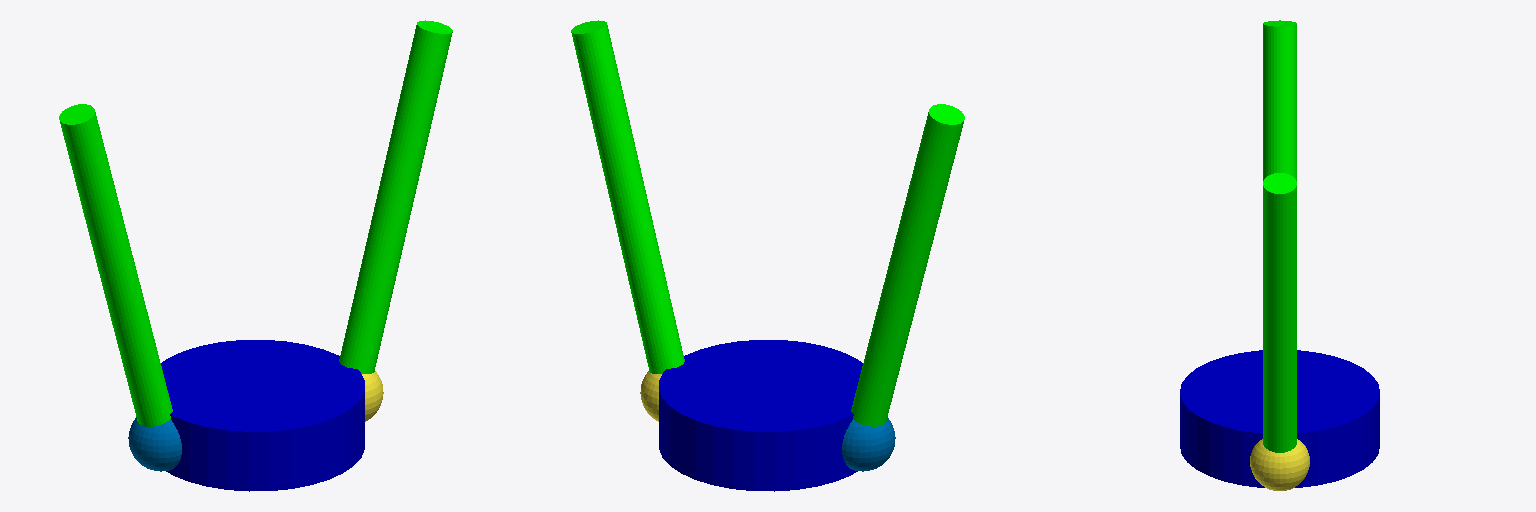
The robot description file, URDF, robot "gripper_2f_1j":
<?xml version='1.0' encoding='UTF-8'?>
<robot name="gripper_2f_1j">
  <link name="palm">
    <inertial>
      <origin xyz="0.0 0.0 0.0" rpy="0.0 -0.0 0.0"/>
      <mass value="1.0"/>
      <inertia ixx="1.0" ixy="0.0" ixz="0.0" iyy="1.0" iyz="0.0" izz="1.0"/>
    </inertial>
    <visual>
      <geometry>
        <cylinder radius="0.05" length="0.03"/>
      </geometry>
      <material name="blue"/>
      <origin xyz="0.0 0.0 0.0" rpy="0.0 -0.0 0.0"/>
    </visual>
    <collision>
      <geometry>
        <cylinder radius="0.05" length="0.03"/>
      </geometry>
      <origin xyz="0.0 0.0 0.0" rpy="0.0 0.0 0.0"/>
    </collision>
  </link>
  <link name="f11">
    <inertial>
      <origin xyz="0.0 0.0 0.0" rpy="0.0 -0.0 0.0"/>
      <mass value="1.0"/>
      <inertia ixx="1.0" ixy="0.0" ixz="0.0" iyy="1.0" iyz="0.0" izz="1.0"/>
    </inertial>
    <visual>
      <geometry>
        <cylinder radius="0.008428393740721943" length="0.17928422558300025"/>
      </geometry>
      <material name="green"/>
      <origin xyz="0.0 0.0 0.08964211279150013" rpy="0.0 -0.0 0.0"/>
    </visual>
    <collision>
      <geometry>
        <cylinder radius="0.008428393740721943" length="0.17928422558300025"/>
      </geometry>
      <origin xyz="0.0 0.0 0.05" rpy="0.0 0.0 0.0"/>
    </collision>
  </link>
  <link name="f21">
    <inertial>
      <origin xyz="0.0 0.0 0.0" rpy="0.0 -0.0 0.0"/>
      <mass value="1.0"/>
      <inertia ixx="1.0" ixy="0.0" ixz="0.0" iyy="1.0" iyz="0.0" izz="1.0"/>
    </inertial>
    <visual>
      <geometry>
        <cylinder radius="0.008428393740721943" length="0.17928422558300025"/>
      </geometry>
      <material name="green"/>
      <origin xyz="0.0 0.0 0.08964211279150013" rpy="0.0 -0.0 0.0"/>
    </visual>
    <collision>
      <geometry>
        <cylinder radius="0.008428393740721943" length="0.17928422558300025"/>
      </geometry>
      <origin xyz="0.0 0.0 0.05" rpy="0.0 0.0 0.0"/>
    </collision>
  </link>
  <link name="f11_base">
    <inertial>
      <origin xyz="0.0 0.0 0.0" rpy="0.0 -0.0 0.0"/>
      <mass value="1.0"/>
      <inertia ixx="1.0" ixy="0.0" ixz="0.0" iyy="1.0" iyz="0.0" izz="1.0"/>
    </inertial>
    <visual>
      <geometry>
        <sphere radius="0.015"/>
      </geometry>
      <origin xyz="0.0 0.0 0.0" rpy="0.0 -0.0 0.0"/>
    </visual>
  </link>
  <link name="f21_base">
    <inertial>
      <origin xyz="0.0 0.0 0.0" rpy="0.0 -0.0 0.0"/>
      <mass value="1.0"/>
      <inertia ixx="1.0" ixy="0.0" ixz="0.0" iyy="1.0" iyz="0.0" izz="1.0"/>
    </inertial>
    <visual>
      <geometry>
        <sphere radius="0.015"/>
      </geometry>
      <origin xyz="0.0 0.0 0.0" rpy="0.0 -0.0 0.0"/>
    </visual>
  </link>
  <joint name="f11_joint" type="revolute">
    <dynamics damping="100.0" friction="1.0"/>
    <limit effort="30.0" velocity="2.0" lower="-0.6" upper="0.25"/>
    <parent link="f11_base"/>
    <child link="f11"/>
    <axis xyz="0. 1. 0."/>
    <origin xyz="0.0 0.0 0.0" rpy="0.0 0.25 0.0"/>
  </joint>
  <joint name="f21_joint" type="revolute">
    <dynamics damping="100.0" friction="1.0"/>
    <limit effort="30.0" velocity="2.0" lower="-0.6" upper="0.25"/>
    <parent link="f21_base"/>
    <child link="f21"/>
    <axis xyz=" 0. -1.  0."/>
    <origin xyz="0.0 0.0 0.0" rpy="0.0 -0.25 0.0"/>
  </joint>
  <joint name="f11_base_joint" type="fixed">
    <parent link="palm"/>
    <child link="f11_base"/>
    <axis xyz="1. 0. 0."/>
    <origin xyz="0.05 0.0 0.0" rpy="0.0 0.0 0.0"/>
  </joint>
  <joint name="f21_base_joint" type="fixed">
    <parent link="palm"/>
    <child link="f21_base"/>
    <axis xyz="1. 0. 0."/>
    <origin xyz="-0.05 -0.0 0.0" rpy="0.0 0.0 0.0"/>
  </joint>
  <material name="blue">
    <color rgba="0.  0.  0.8 1. "/>
  </material>
  <material name="green">
    <color rgba="0. 1. 0. 1."/>
  </material>
</robot>

--- Facts derived from the render (not from the file) ---
Views: 3 orthographic renders of the robot side by side, from view 1: azimuth 30°, elevation 25°; view 2: azimuth 150°, elevation 25°; view 3: azimuth 270°, elevation 25°.
Robot: gripper_2f_1j — 5 links, 4 joints (2 revolute, 2 fixed); root link palm; default pose: all joints at 0.
Visible links, largest first — view 1: palm, f11, f21, f21_base, f11_base; view 2: palm, f11, f21, f21_base, f11_base; view 3: palm, f11, f21, f11_base.
Link boxes in pixels (box(x1,y1,x2,y2)): palm: box(161, 340, 364, 491); f11: box(339, 20, 452, 373); f21: box(59, 104, 172, 426); f21_base: box(128, 417, 181, 471); f11_base: box(362, 371, 383, 421); palm: box(659, 340, 862, 491); f11: box(571, 20, 684, 373); f21: box(851, 104, 964, 426); f21_base: box(842, 417, 895, 471); f11_base: box(640, 371, 661, 421); palm: box(1180, 350, 1379, 487); f11: box(1263, 173, 1296, 452); f21: box(1263, 20, 1296, 180); f11_base: box(1250, 439, 1309, 490).
Bounding box of the posed robot: 0.205 × 0.1 × 0.1908 m (x, y, z).
Geometry: primitives only (box / cylinder / sphere), no mesh files.